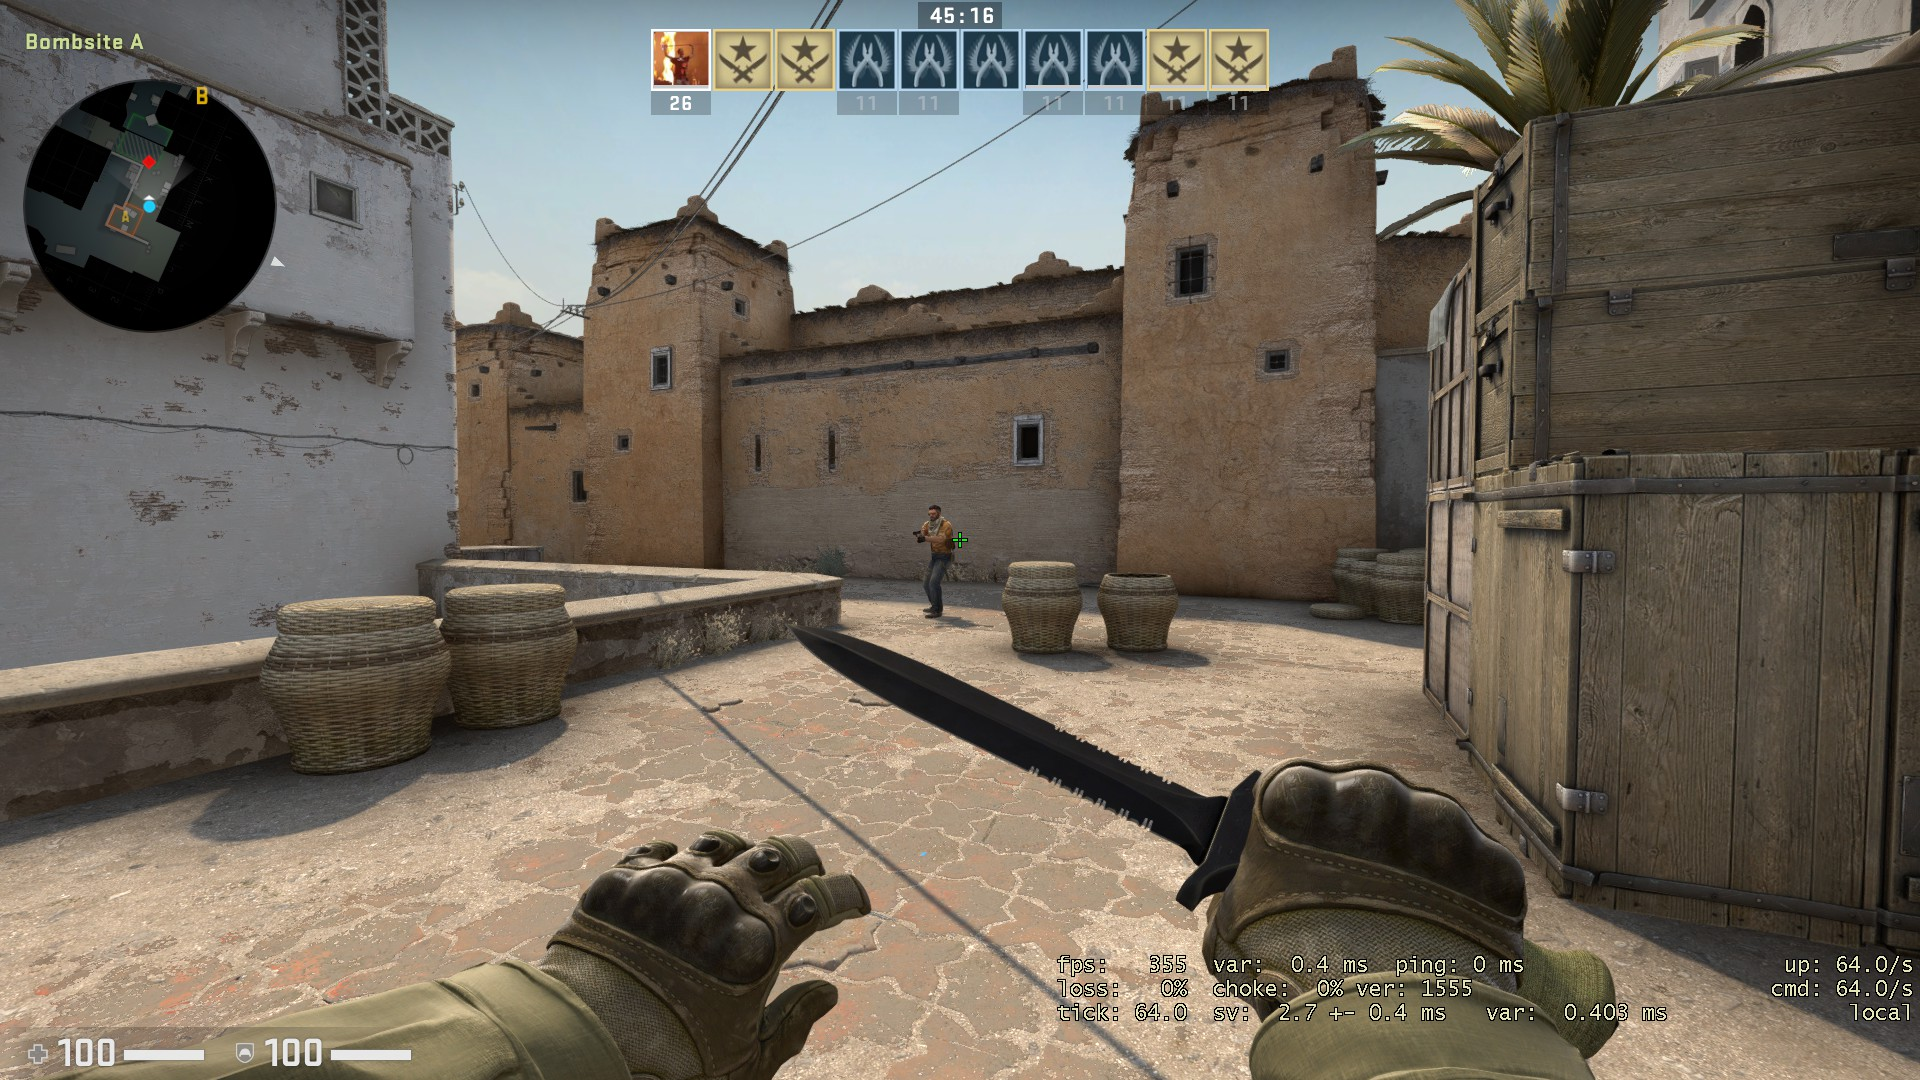player: (911, 502, 959, 622)
